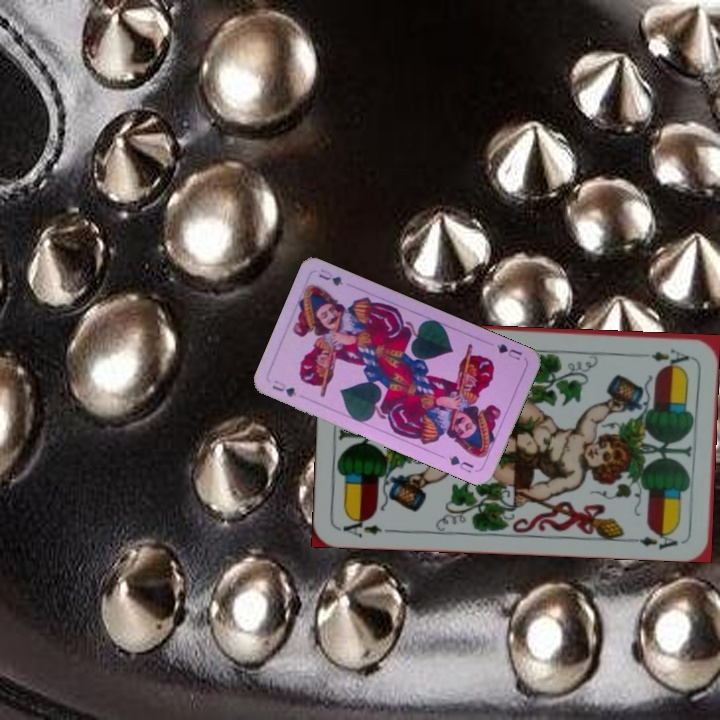EA: (339, 513, 396, 540), (647, 345, 692, 367)
GU: (268, 376, 299, 400), (493, 340, 525, 363)
